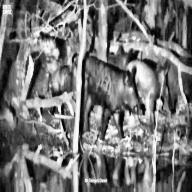boar: (80, 55, 146, 138)
